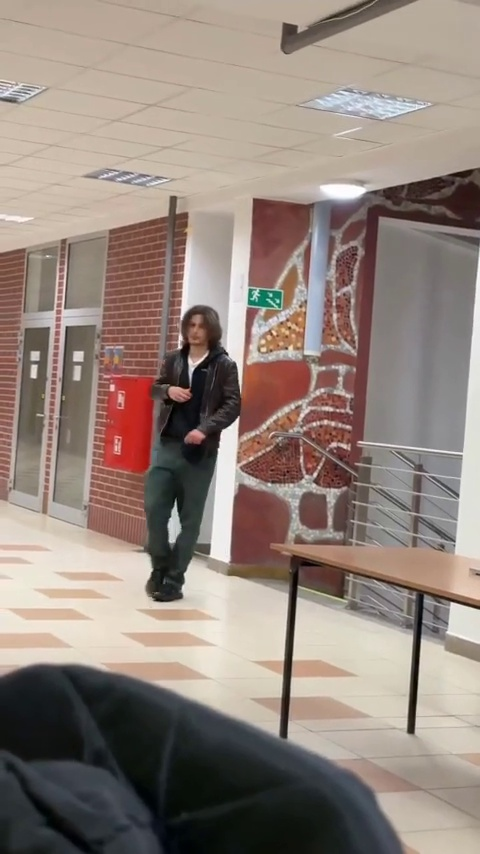no vest: (151, 302, 241, 601)
